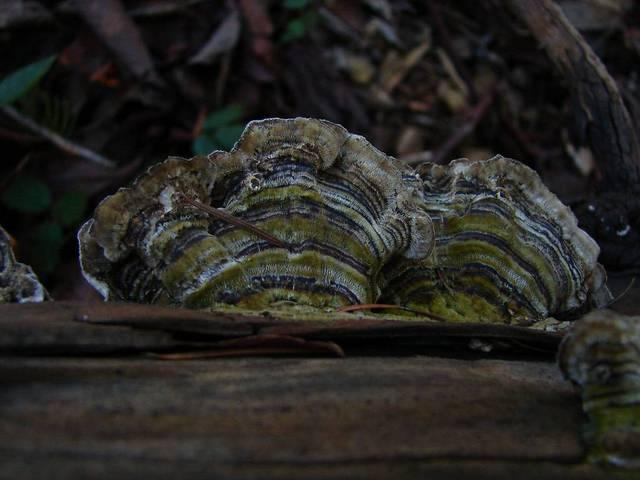poisonous_mushroom: (75, 114, 613, 328)
